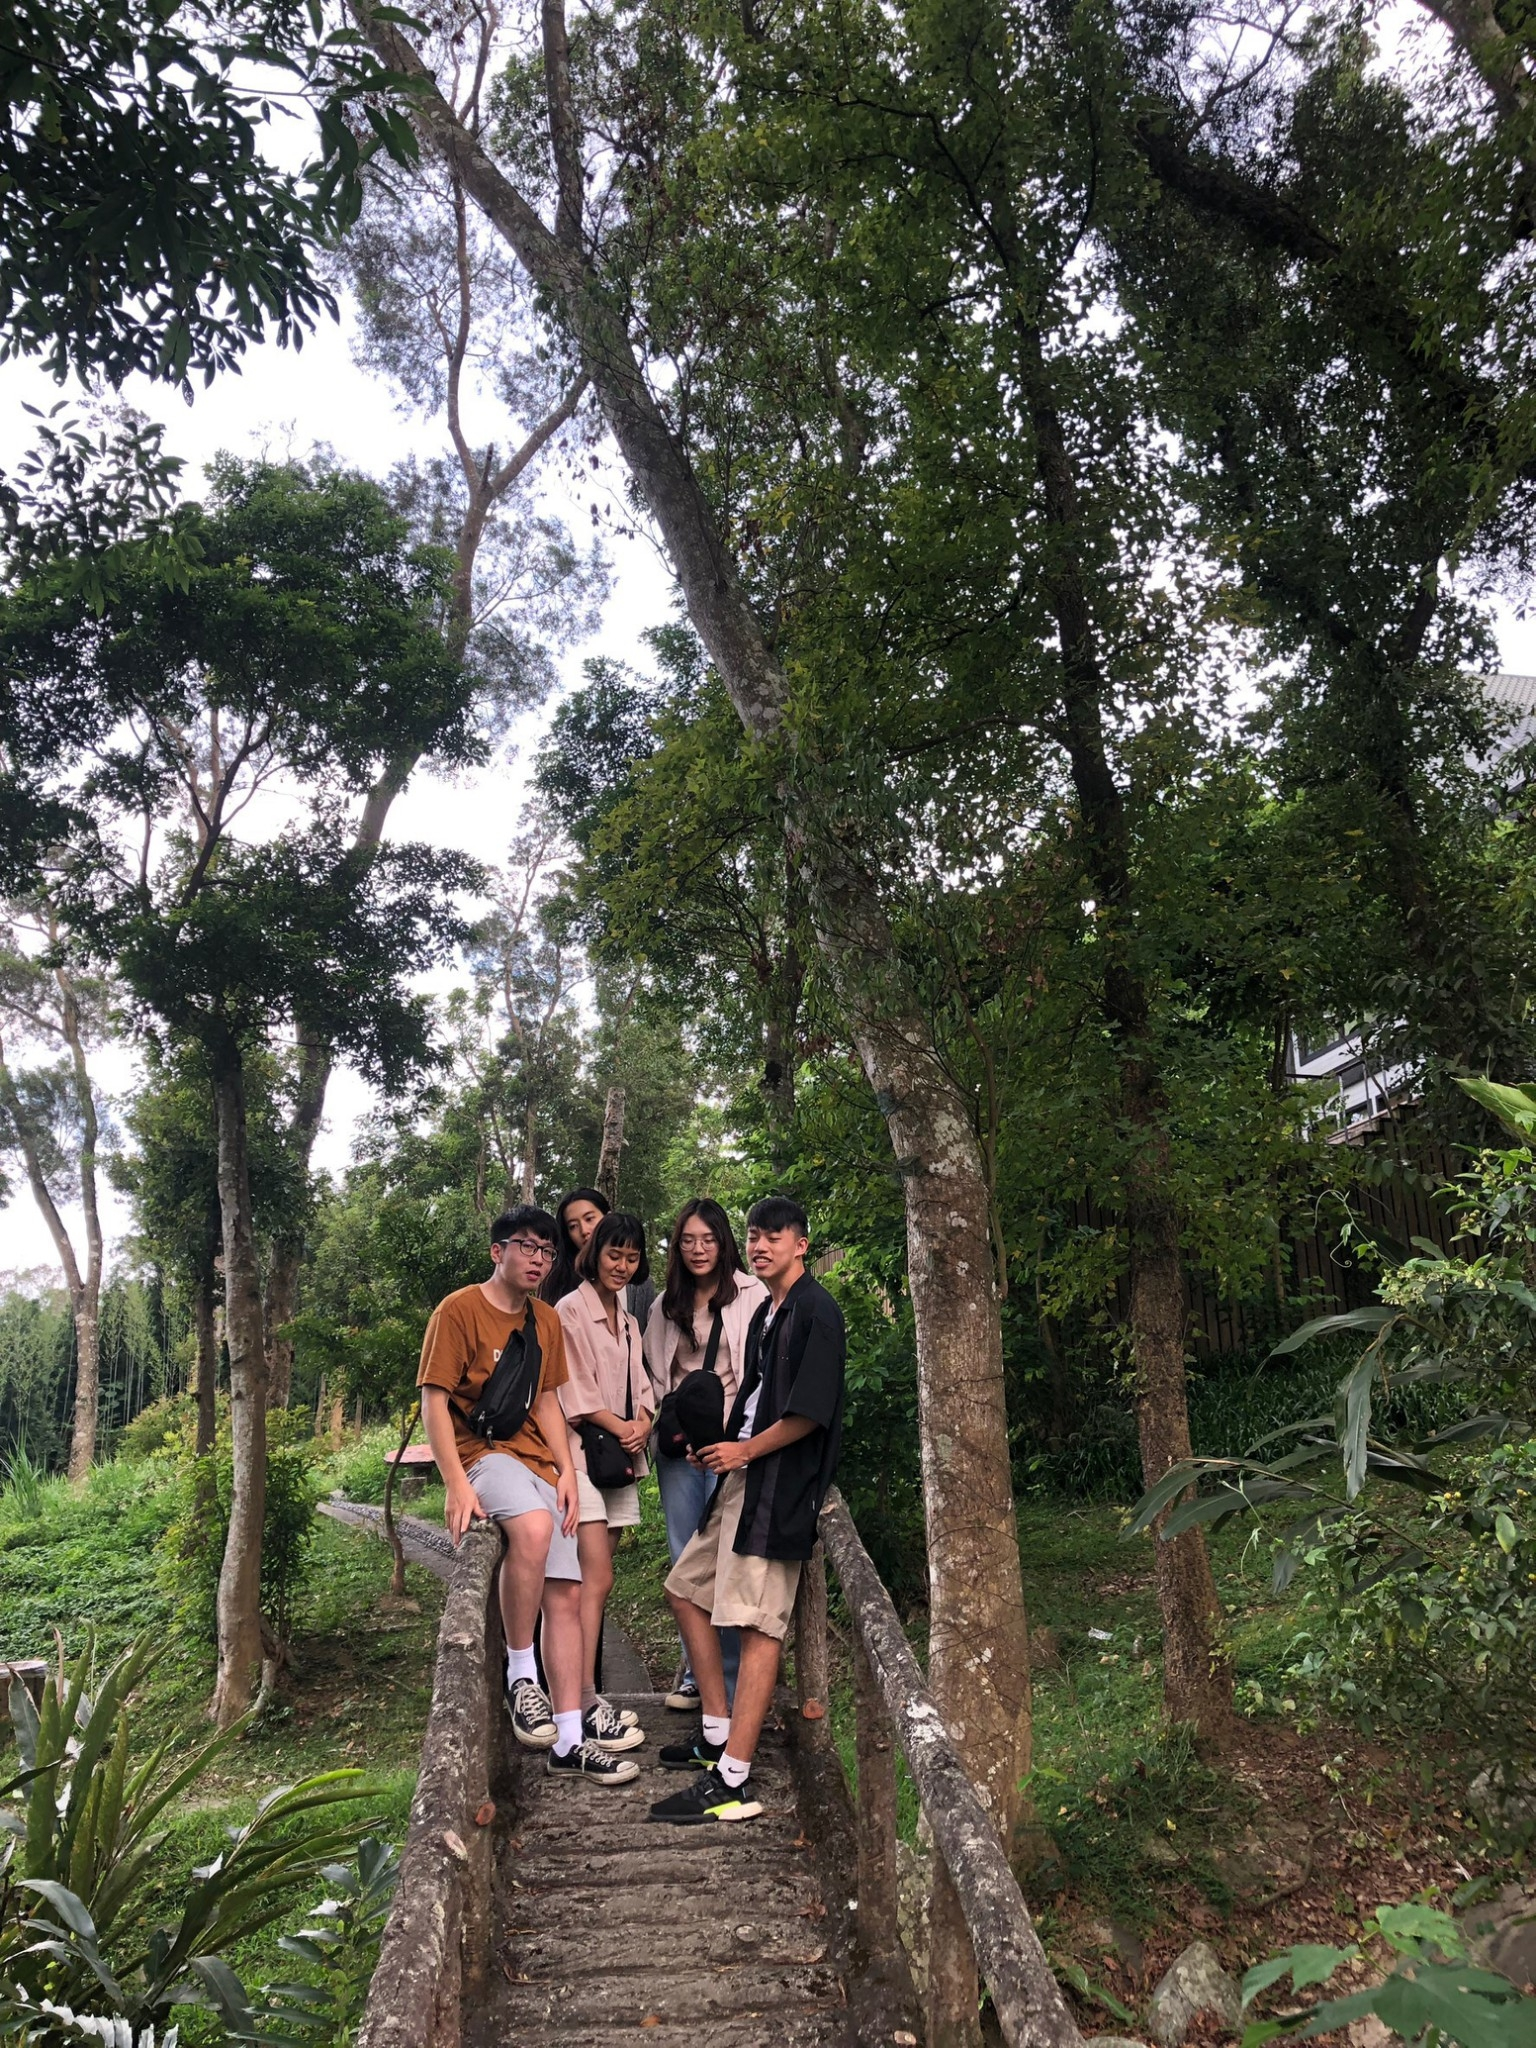people: (727, 1196, 827, 1815), (444, 1205, 563, 1715), (666, 1209, 763, 1705), (566, 1222, 640, 1676), (553, 1180, 618, 1264)
